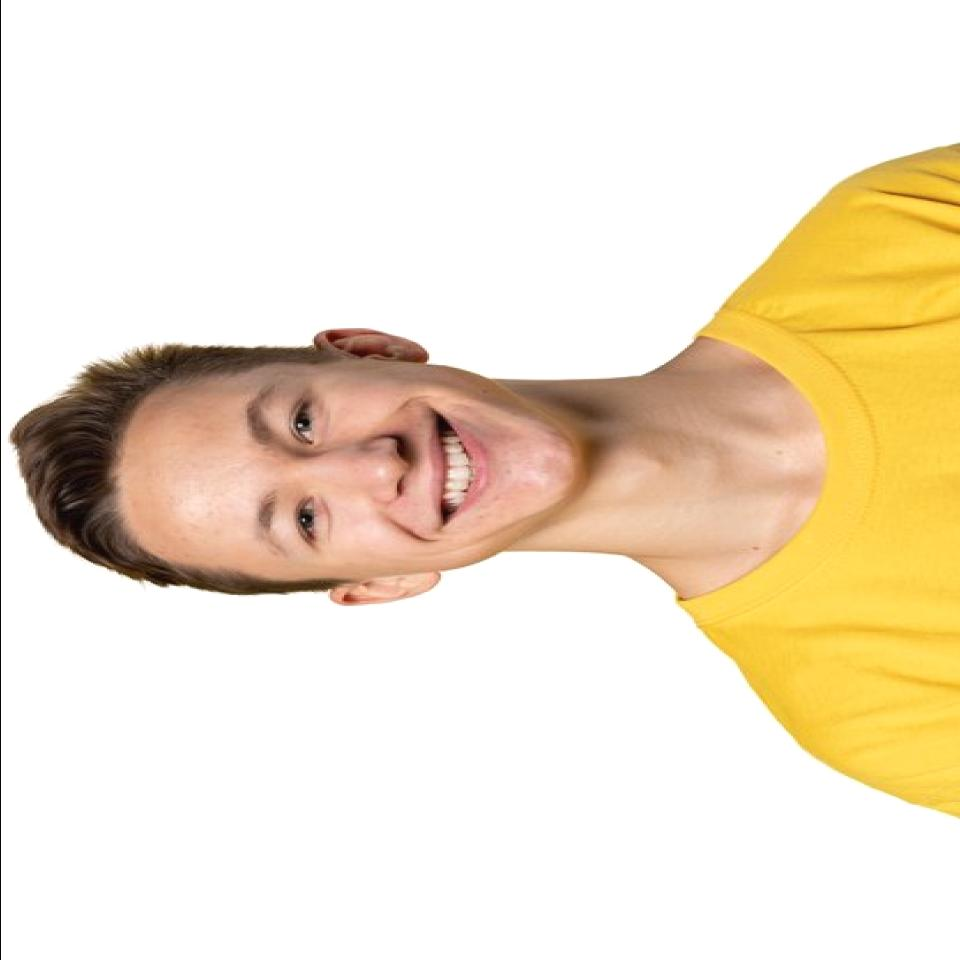Happiness: (156, 360, 571, 575)
